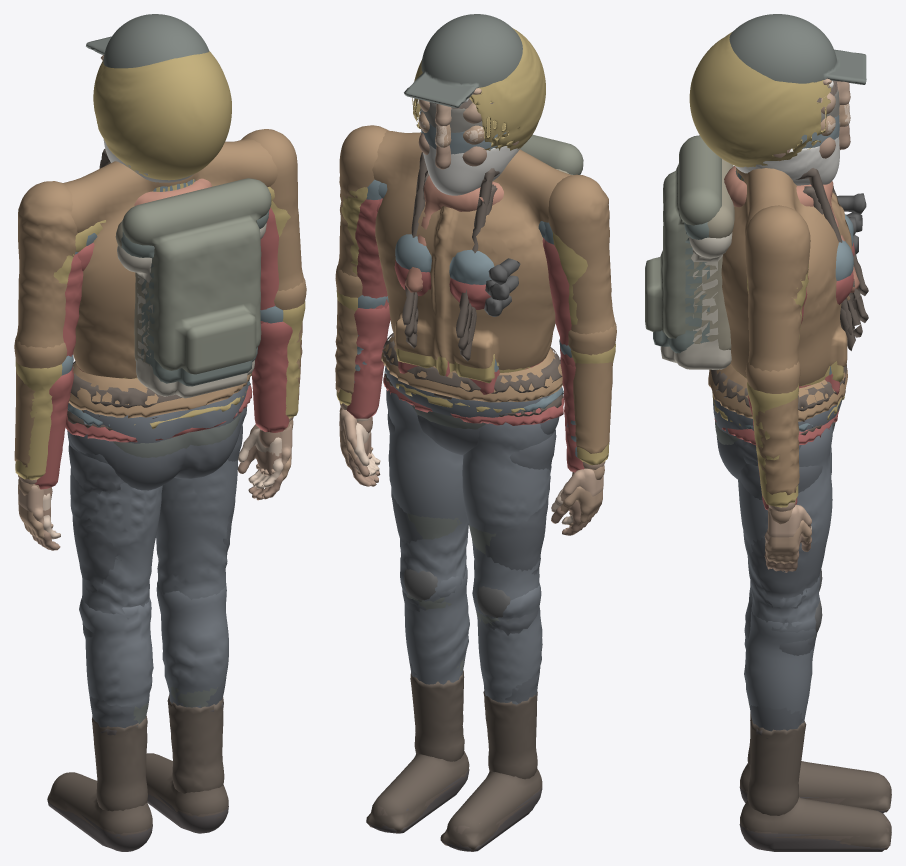
The model's file is Crew.glb.
3 renders of one model, left to right at view 1: azimuth 30°, elevation 25°; view 2: azimuth 150°, elevation 25°; view 3: azimuth 270°, elevation 25°, orthographic. The views are drawn at different scales.
Parts seen in each view (by area): view 1: Crew_tobias_UpperTorso_Pack, Crew_sefa_Head_Hood, Crew_tobias_UpperTorso_Jacket, Crew_tobias_RightUpperLeg_Pants, Crew_tobias_LeftUpperArm_Sleeve, Crew_tobias_LeftUpperLeg_Pants, Crew_tobias_RightLowerLeg_Pants, Crew_tobias_LeftLowerLeg_Pants, Crew_ines_LowerTorso_Pants, Crew_tobias_RightLowerLeg_Boot, Crew_tobias_LeftLowerLeg_Boot, Crew_tobias_Head_Hat (+29 smaller); view 2: Crew_tobias_UpperTorso_Jacket, Crew_tobias_RightUpperLeg_Pants, Crew_tobias_LeftUpperLeg_Pants, Crew_tobias_Head_Hat, Crew_tobias_LeftUpperArm_Sleeve, Crew_tobias_RightLowerLeg_Pants, Crew_sefa_Head_Hood, Crew_tobias_LeftLowerLeg_Pants, Crew_tobias_LeftLowerArm_Sleeve, Crew_tobias_RightFoot_Boot, Crew_tobias_RightLowerLeg_Boot, Crew_tobias_LeftFoot_Boot (+42 smaller); view 3: Crew_tobias_UpperTorso_Jacket, Crew_sefa_Head_Hood, Crew_tobias_RightUpperArm_Sleeve, Crew_tobias_UpperTorso_Pack, Crew_tobias_Head_Hat, Crew_tobias_RightUpperLeg_Pants, Crew_tobias_RightLowerLeg_Pants, Crew_tobias_RightFoot_Boot, Crew_tobias_RightLowerArm_Sleeve, Crew_tobias_RightLowerLeg_Boot, Crew_ines_RightUpperLeg_Pants, Crew_tobias_LeftFoot_Boot (+21 smaller).
Boxes of the visible parts, x1,y1,x2,y2 form: Crew_tobias_UpperTorso_Pack: (122, 178, 271, 374); Crew_sefa_Head_Hood: (93, 51, 231, 180); Crew_tobias_UpperTorso_Jacket: (63, 139, 277, 378); Crew_tobias_RightUpperLeg_Pants: (156, 420, 243, 599); Crew_tobias_LeftUpperArm_Sleeve: (16, 181, 77, 348); Crew_tobias_LeftUpperLeg_Pants: (67, 430, 162, 619); Crew_tobias_RightLowerLeg_Pants: (156, 581, 228, 707); Crew_tobias_LeftLowerLeg_Pants: (79, 598, 153, 723); Crew_ines_LowerTorso_Pants: (68, 404, 247, 490); Crew_tobias_RightLowerLeg_Boot: (167, 695, 224, 793); Crew_tobias_LeftLowerLeg_Boot: (92, 716, 147, 811); Crew_tobias_Head_Hat: (86, 14, 209, 68); Crew_tobias_UpperTorso_Jacket: (372, 130, 571, 370); Crew_tobias_RightUpperLeg_Pants: (386, 390, 468, 597); Crew_tobias_LeftUpperLeg_Pants: (462, 422, 555, 602); Crew_tobias_Head_Hat: (404, 14, 522, 107); Crew_tobias_LeftUpperArm_Sleeve: (548, 174, 615, 334); Crew_tobias_RightLowerLeg_Pants: (400, 565, 469, 684); Crew_sefa_Head_Hood: (412, 28, 545, 150); Crew_tobias_LeftLowerLeg_Pants: (472, 583, 542, 704); Crew_tobias_LeftLowerArm_Sleeve: (568, 322, 616, 453); Crew_tobias_RightFoot_Boot: (366, 750, 469, 831); Crew_tobias_RightLowerLeg_Boot: (410, 670, 464, 761); Crew_tobias_LeftFoot_Boot: (440, 768, 542, 849); Crew_tobias_UpperTorso_Jacket: (721, 167, 852, 386); Crew_sefa_Head_Hood: (689, 32, 831, 167); Crew_tobias_RightUpperArm_Sleeve: (745, 205, 810, 371); Crew_tobias_UpperTorso_Pack: (645, 135, 721, 338); Crew_tobias_Head_Hat: (729, 14, 866, 84); Crew_tobias_RightUpperLeg_Pants: (738, 424, 832, 632); Crew_tobias_RightLowerLeg_Pants: (744, 610, 816, 727); Crew_tobias_RightFoot_Boot: (740, 797, 891, 847); Crew_tobias_RightLowerArm_Sleeve: (745, 361, 800, 494); Crew_tobias_RightLowerLeg_Boot: (747, 718, 806, 815); Crew_ines_RightUpperLeg_Pants: (739, 463, 825, 644); Crew_tobias_LeftFoot_Boot: (740, 761, 891, 810).
Size of the model in its own units: 2.26 by 6.18 by 1.7.
